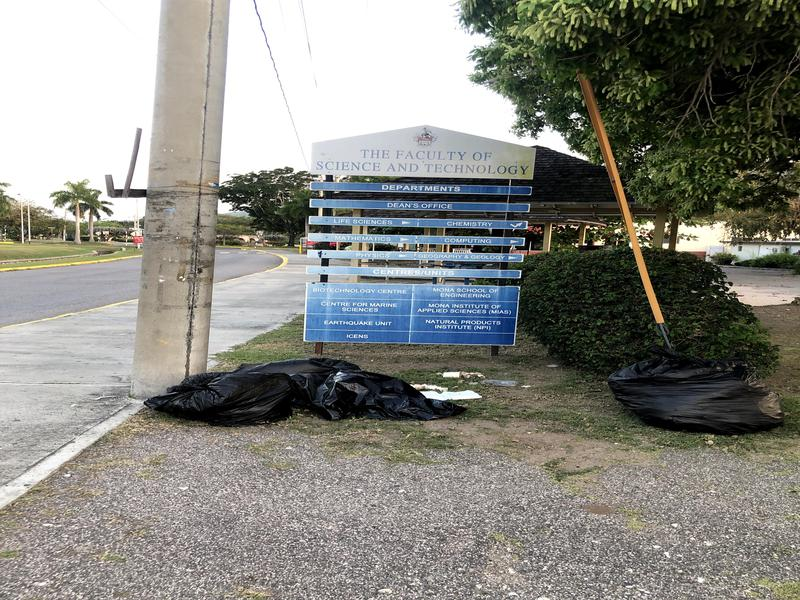18.0055634_-76.7484079_scitechsign: (296, 113, 542, 362)
